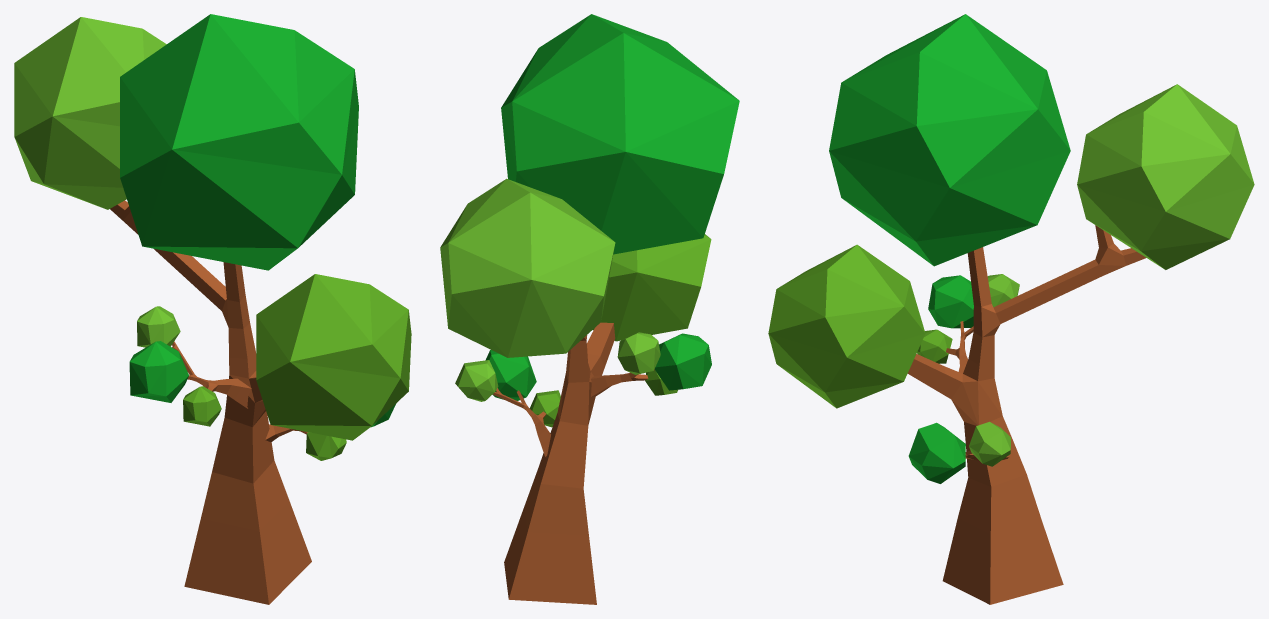
The model's file is tree6.fbx.
3 views of the same model, side by side, from view 1: azimuth 30°, elevation 25°; view 2: azimuth 150°, elevation 25°; view 3: azimuth 270°, elevation 25° (orthographic). The views are drawn at different scales.
Visible parts, largest first — view 1: Icosphere, Icosphere.002, Icosphere.001; view 2: Icosphere, Icosphere.002, Icosphere.001; view 3: Icosphere, Icosphere.002, Icosphere.001.
Part boxes in pixels (x1,y1,x2,y2): Icosphere: (14,14,411,604); Icosphere.002: (129,306,251,426); Icosphere.001: (265,403,396,460); Icosphere: (440,14,739,604); Icosphere.002: (591,332,711,396); Icosphere.001: (455,350,560,457); Icosphere: (768,14,1254,604); Icosphere.002: (917,274,1019,373); Icosphere.001: (908,421,1010,483).
Size of the model in its own units: 159 by 344 by 277.
